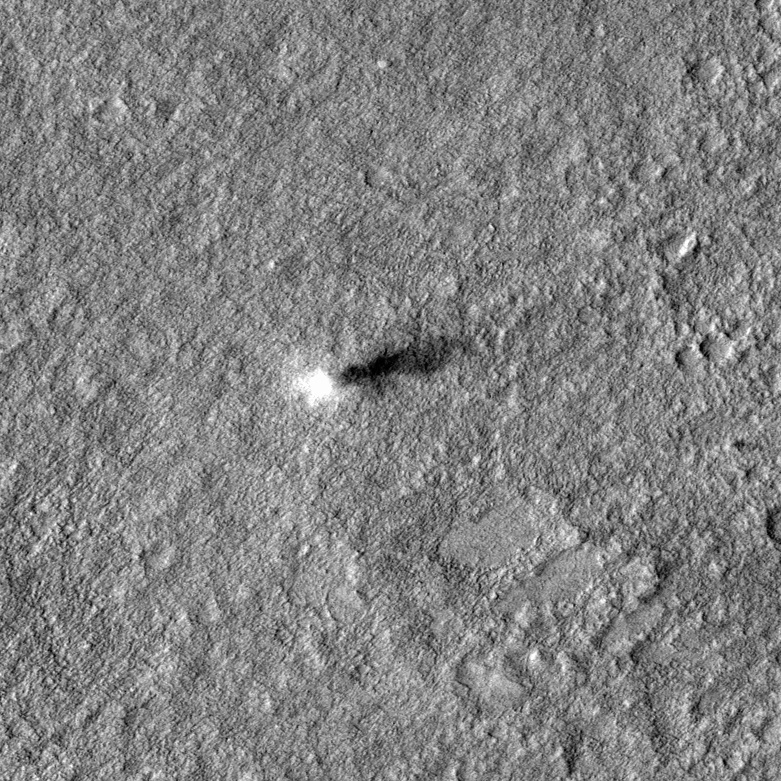dust_devil: (286, 326, 477, 414)
